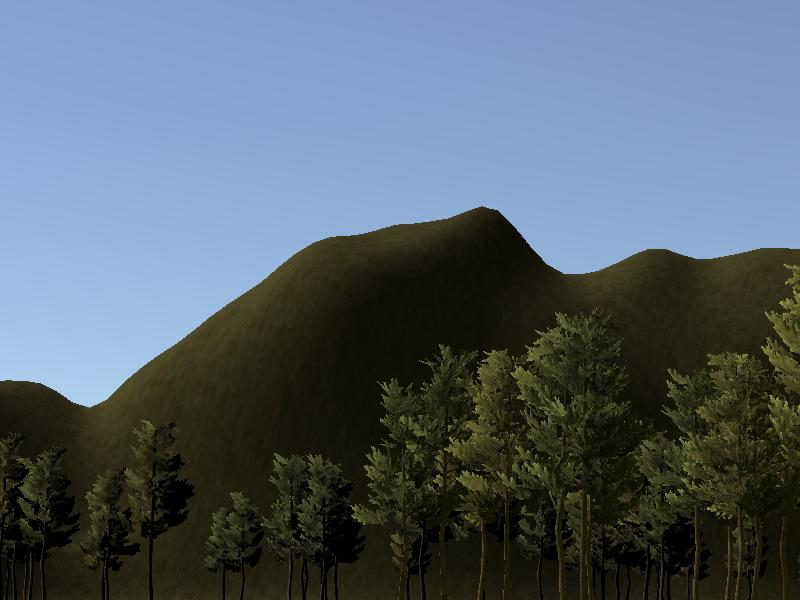background: (1, 1, 800, 598)
